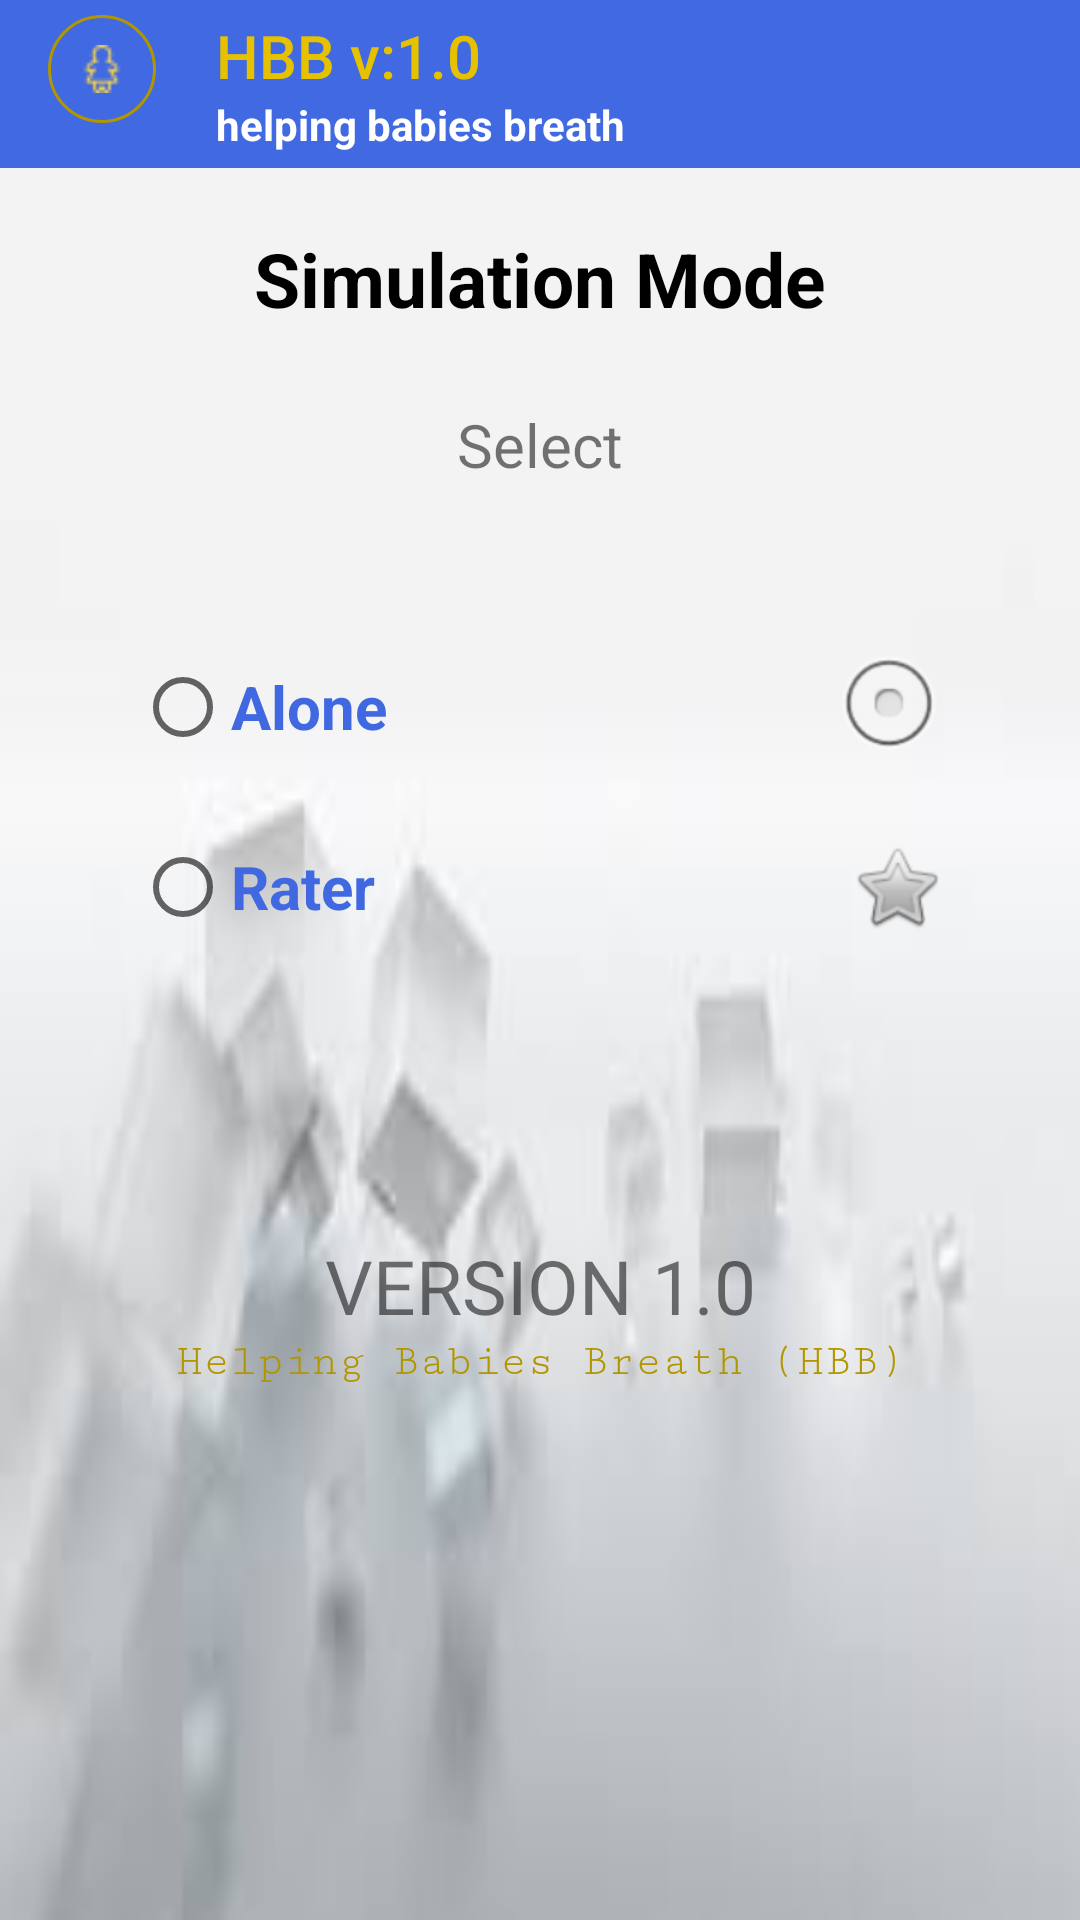

Where icons sit on this 1080*1920 app screen, as (x1, y1, x2, y2):
babe girl: (48, 15, 156, 123)
